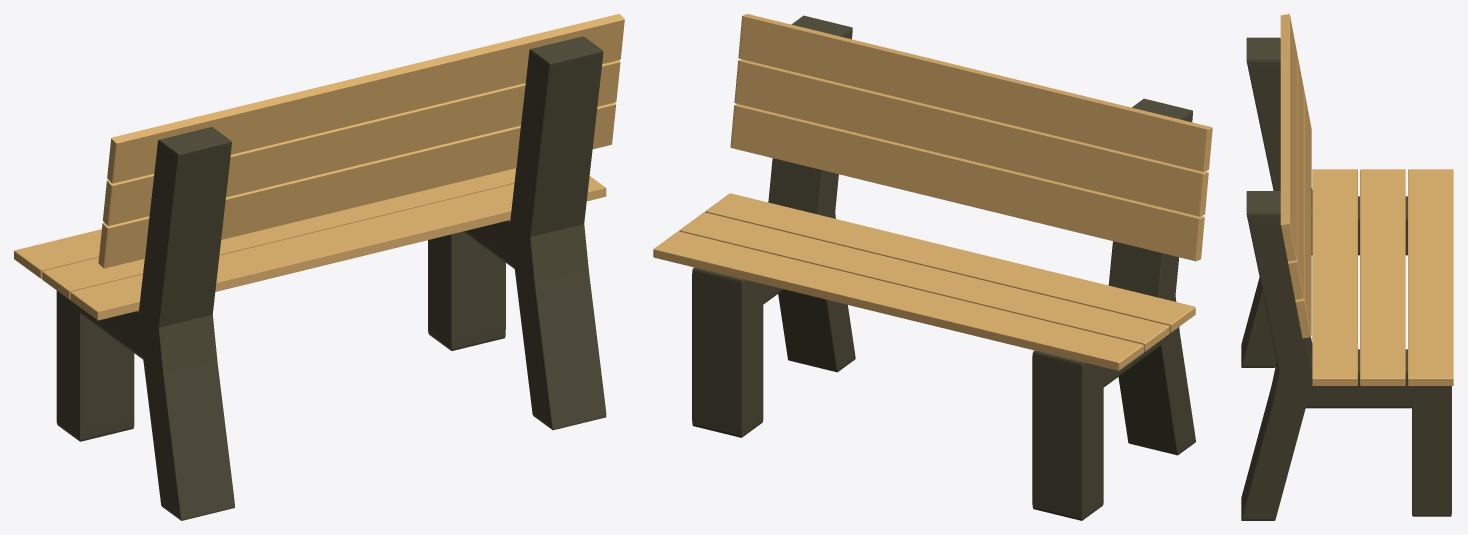
The model's file is banco01.fbx.
3 renders of one model, left to right at view 1: azimuth 30°, elevation 25°; view 2: azimuth 150°, elevation 25°; view 3: azimuth 270°, elevation 25°, orthographic. The views are drawn at different scales.
Visible parts, largest first — view 1: base, respaldo, asiento; view 2: respaldo, base, asiento; view 3: asiento, base, respaldo.
Part boxes in pixels (bbox=[...]): base: bbox=[56, 36, 606, 520]; respaldo: bbox=[98, 14, 624, 268]; asiento: bbox=[14, 168, 606, 320]; respaldo: bbox=[730, 14, 1212, 261]; base: bbox=[692, 15, 1195, 520]; asiento: bbox=[653, 193, 1195, 370]; asiento: bbox=[1312, 169, 1453, 385]; base: bbox=[1241, 37, 1451, 520]; respaldo: bbox=[1280, 14, 1311, 338].
Bounding box in the file's own units: 426 × 298 × 182.
